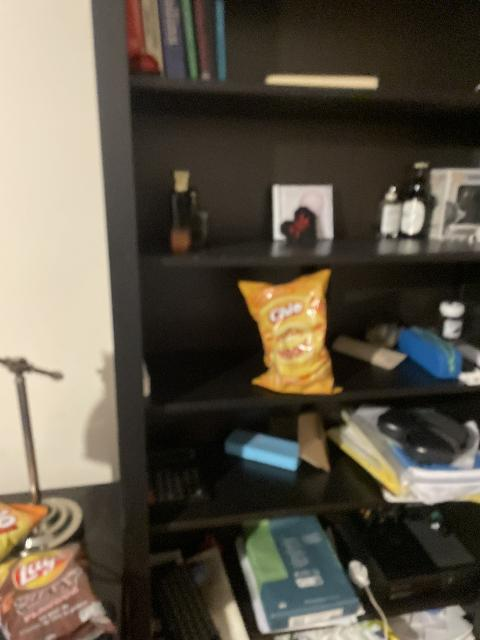Chio Cascaval 125g: (0, 500, 48, 569)
Chio Hula Hoops Cheese 70g: (238, 271, 341, 396)
Lays Beef Grilled Ribs 125g: (2, 545, 116, 640)
